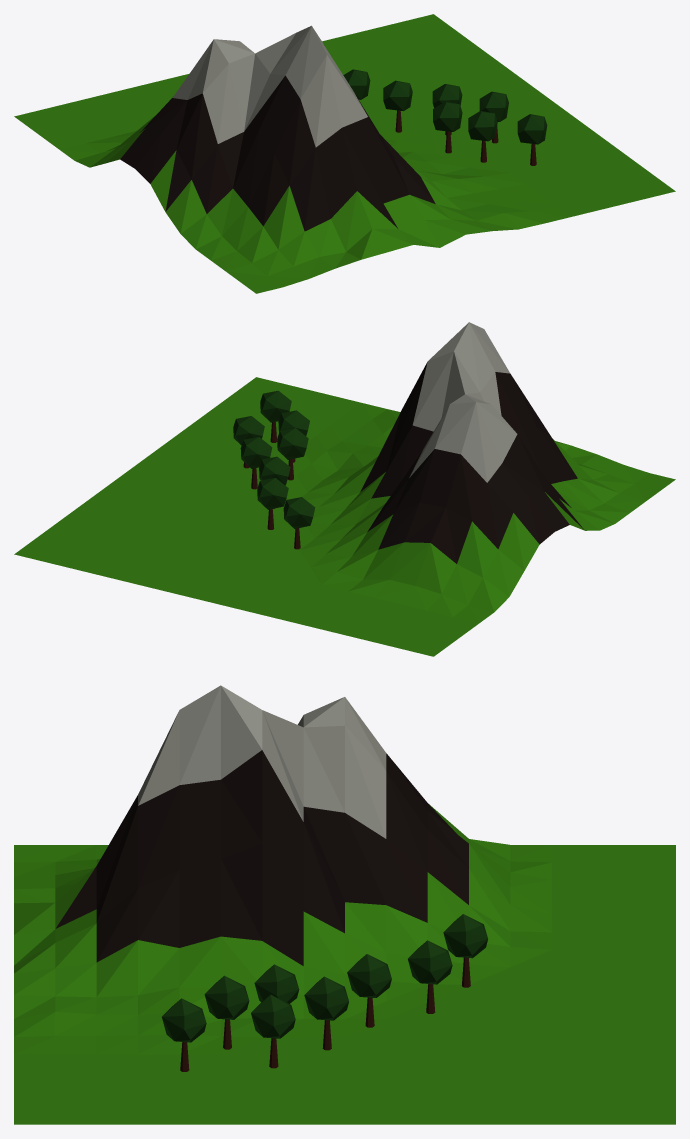
Rendered from mountain.obj.
3 views of the same model, one above another, from view 1: azimuth 30°, elevation 25°; view 2: azimuth 150°, elevation 25°; view 3: azimuth 270°, elevation 25° (orthographic). The views are drawn at different scales.
Visible parts, largest first — view 1: Plane, Cylinder.008_Cylinder.011, Cylinder.006_Cylinder.009, Cylinder.007_Cylinder.010, Cylinder.003_Cylinder.006, Cylinder.001_Cylinder.004, Cylinder.002_Cylinder.005, Cylinder.004_Cylinder.007; view 2: Plane, Cylinder.005_Cylinder.008, Cylinder.004_Cylinder.007, Cylinder.007_Cylinder.010, Cylinder.008_Cylinder.011, Cylinder.002_Cylinder.005, Cylinder.001_Cylinder.004, Cylinder.003_Cylinder.006, Cylinder.006_Cylinder.009; view 3: Plane, Cylinder.006_Cylinder.009, Cylinder.005_Cylinder.008, Cylinder.004_Cylinder.007, Cylinder.001_Cylinder.004, Cylinder.008_Cylinder.011, Cylinder.003_Cylinder.006, Cylinder.002_Cylinder.005, Cylinder.007_Cylinder.010.
Boxes of the visible parts, x1,y1,x2,y2 form: Plane: [14, 14, 675, 293]; Cylinder.008_Cylinder.011: [517, 114, 547, 165]; Cylinder.006_Cylinder.009: [468, 111, 497, 162]; Cylinder.007_Cylinder.010: [433, 101, 462, 153]; Cylinder.003_Cylinder.006: [383, 80, 412, 132]; Cylinder.001_Cylinder.004: [479, 91, 508, 143]; Cylinder.002_Cylinder.005: [432, 84, 462, 135]; Cylinder.004_Cylinder.007: [343, 69, 370, 99]; Plane: [14, 322, 675, 656]; Cylinder.005_Cylinder.008: [283, 497, 315, 549]; Cylinder.004_Cylinder.007: [257, 478, 288, 529]; Cylinder.007_Cylinder.010: [277, 428, 308, 480]; Cylinder.008_Cylinder.011: [260, 390, 291, 442]; Cylinder.002_Cylinder.005: [240, 437, 272, 489]; Cylinder.001_Cylinder.004: [233, 416, 264, 468]; Cylinder.003_Cylinder.006: [259, 456, 290, 508]; Cylinder.006_Cylinder.009: [278, 410, 309, 462]; Plane: [14, 685, 675, 1124]; Cylinder.006_Cylinder.009: [204, 975, 249, 1049]; Cylinder.005_Cylinder.008: [443, 914, 487, 987]; Cylinder.004_Cylinder.007: [408, 940, 452, 1013]; Cylinder.001_Cylinder.004: [251, 994, 295, 1068]; Cylinder.008_Cylinder.011: [162, 998, 206, 1071]; Cylinder.003_Cylinder.006: [347, 954, 391, 1027]; Cylinder.002_Cylinder.005: [304, 976, 348, 1050]; Cylinder.007_Cylinder.010: [254, 964, 299, 1003].
Bounding box in the file's own units: 15.98 × 6.58 × 15.98.
